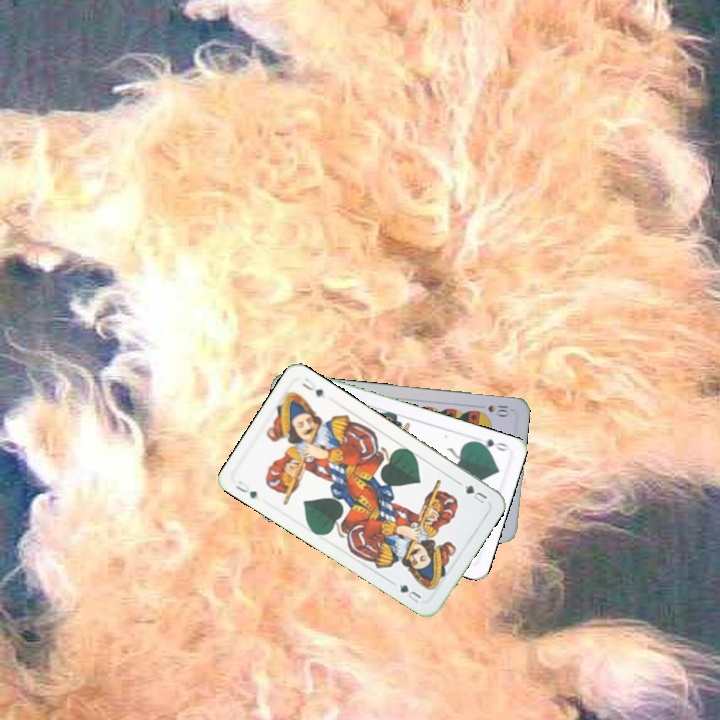GO: (470, 434, 510, 454)
GU: (461, 481, 490, 507), (231, 477, 260, 501)
S10: (484, 401, 512, 418)
